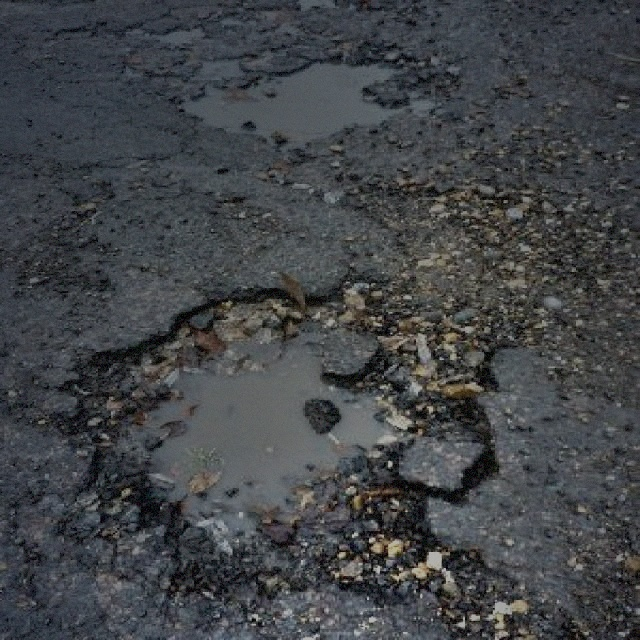pothole: (51, 290, 523, 616), (166, 44, 459, 146)
